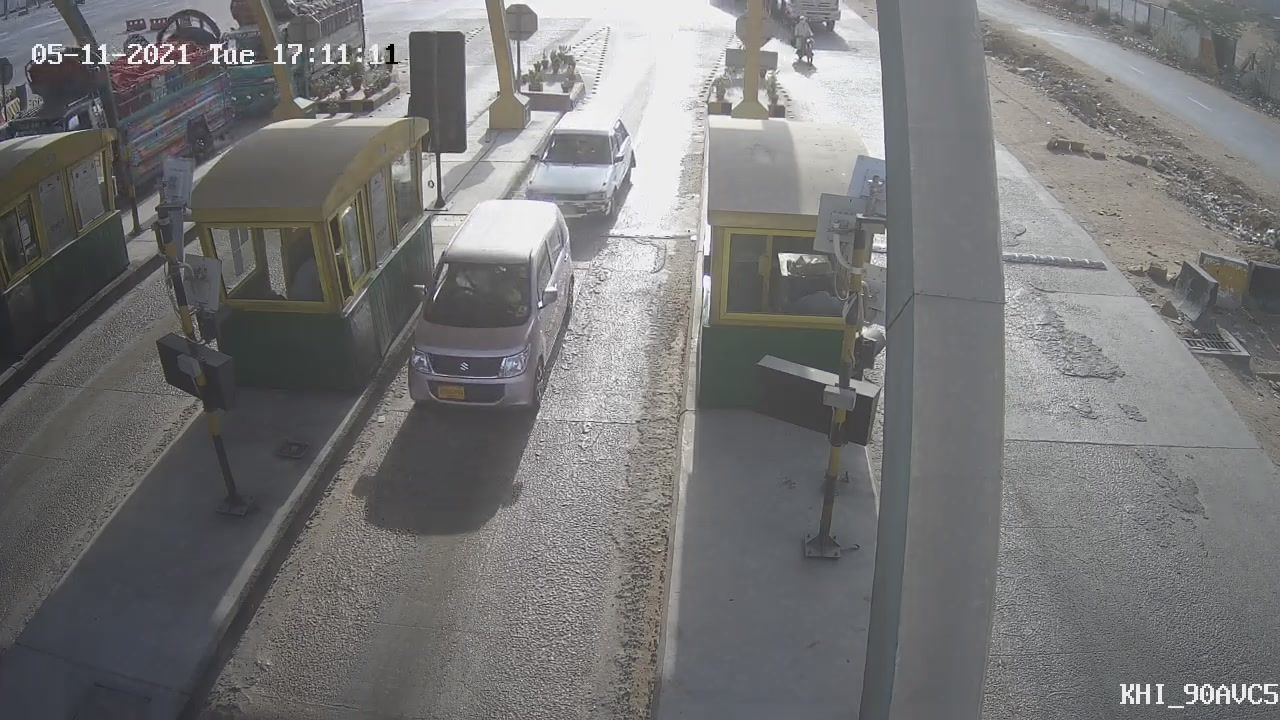F1: (378, 187, 598, 439), (507, 95, 646, 239)
